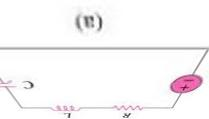inductor: (47, 98, 86, 112)
